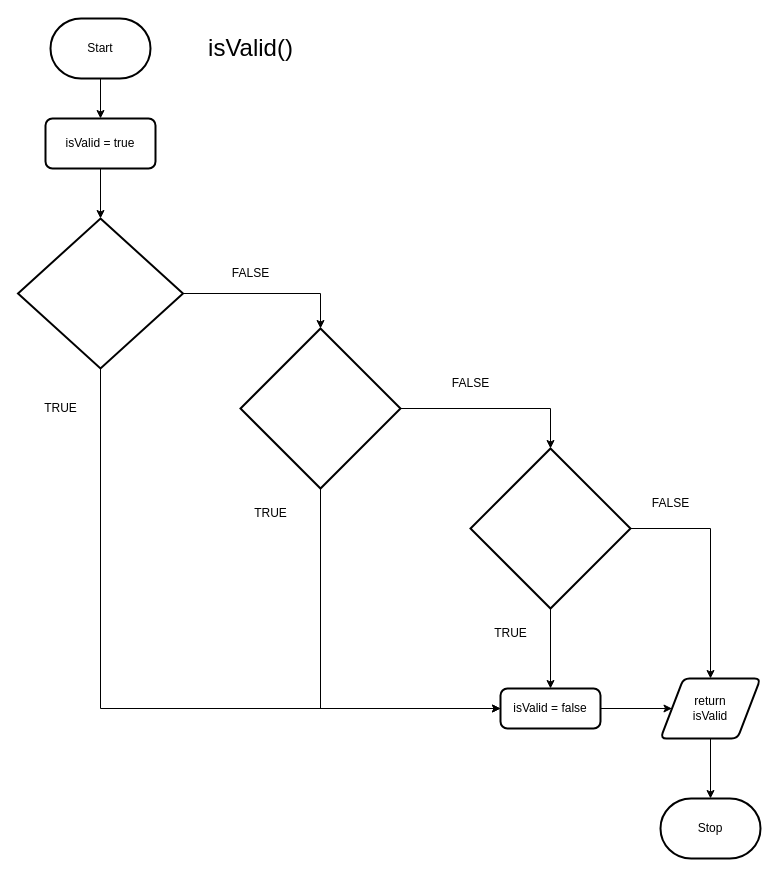
This 779x876 diagram has some shape labels left out. Each missing label, with the centre of its shape:
"if this.sideA + this.sideB) < this.sideC" belongs at [100,293].
"if this.sideB + this.sideC) < this.sideA" belongs at [320,408].
"if this.sideC + this.sideA) < this.sideB" belongs at [550,528].
